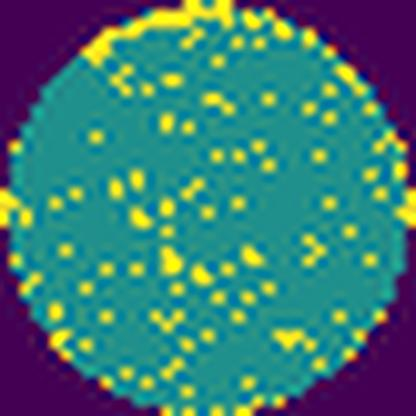Edge-Loc: (85, 0, 236, 72)
